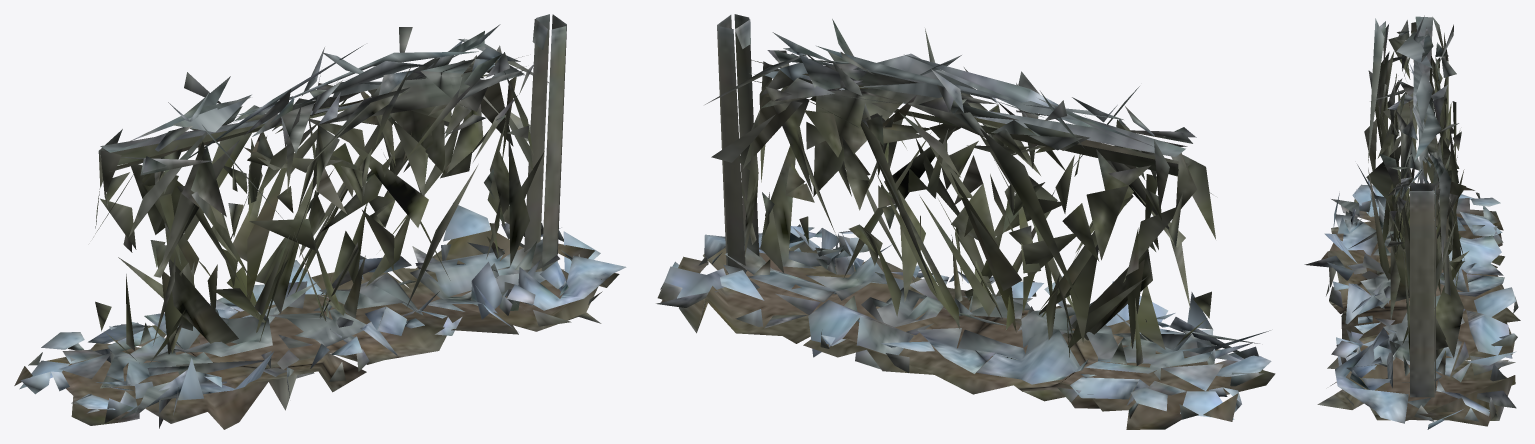
Rendered from hd_thorn2_far.glb.
3 views of the same model, side by side, from view 1: azimuth 30°, elevation 25°; view 2: azimuth 150°, elevation 25°; view 3: azimuth 270°, elevation 25° (orthographic). The views are drawn at different scales.
Parts seen in each view (by area): view 1: hd_thorn2; view 2: hd_thorn2; view 3: hd_thorn2.
Part boxes in pixels (x1,y1,x2,y2): hd_thorn2: [14, 14, 626, 429]; hd_thorn2: [656, 14, 1275, 429]; hd_thorn2: [1304, 15, 1520, 429].
Bounding box in the file's own units: 1.97 × 0.9851 × 0.7494.
1 material, 1 textured.
